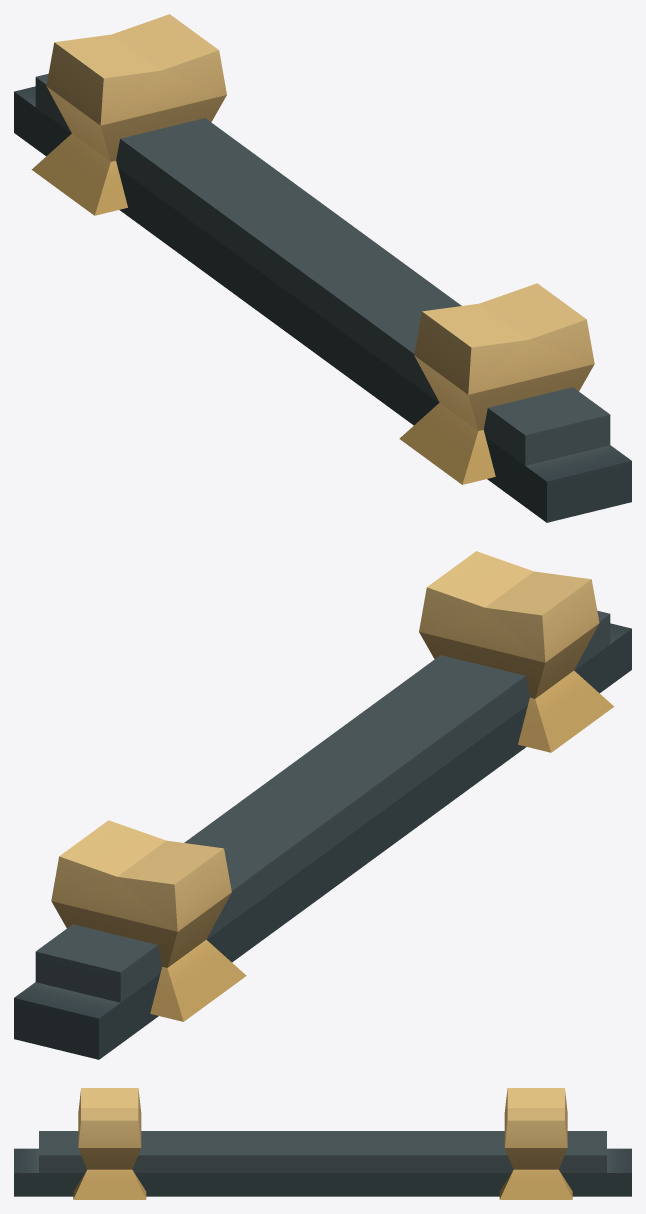
Rendered from Shrine_Roof_Beam.gltf.
3 views of the same model, one above another, from view 1: azimuth 30°, elevation 25°; view 2: azimuth 150°, elevation 25°; view 3: azimuth 270°, elevation 25° (orthographic). The views are drawn at different scales.
Parts seen in each view (by area): view 1: Shrine_Roof_Beam; view 2: Shrine_Roof_Beam; view 3: Shrine_Roof_Beam.
Part boxes in pixels (x1,y1,x2,y2): Shrine_Roof_Beam: (14,14,631,522); Shrine_Roof_Beam: (14,551,631,1059); Shrine_Roof_Beam: (14,1088,631,1199).
Bounding box in the file's own units: 0.8591 × 0.7652 × 5.38.
Materials: 1 (1 with a texture image).
